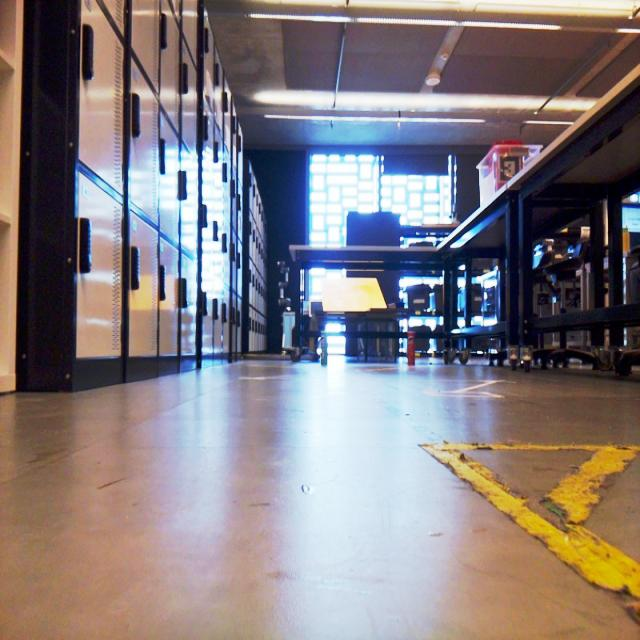greenpringles: (317, 330, 340, 369)
redpringles: (397, 327, 421, 369)
